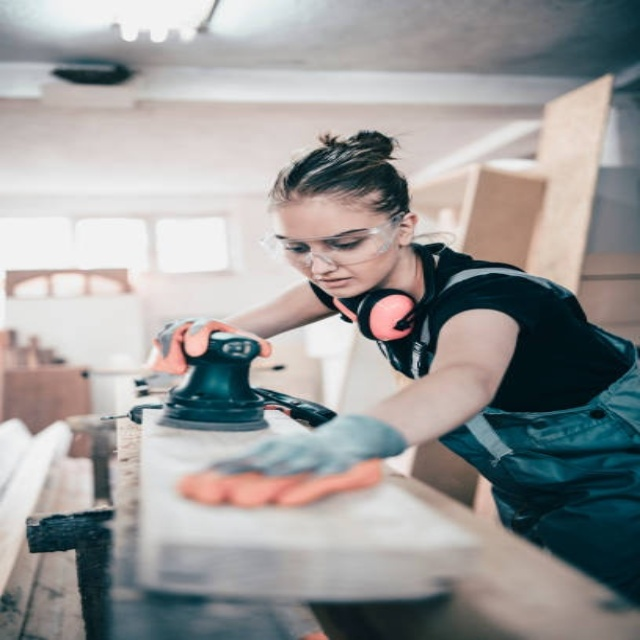Gafas: (263, 212, 406, 270)
Guantes: (210, 412, 407, 481), (151, 317, 272, 374)
Sin_mascara: (309, 274, 364, 296)
